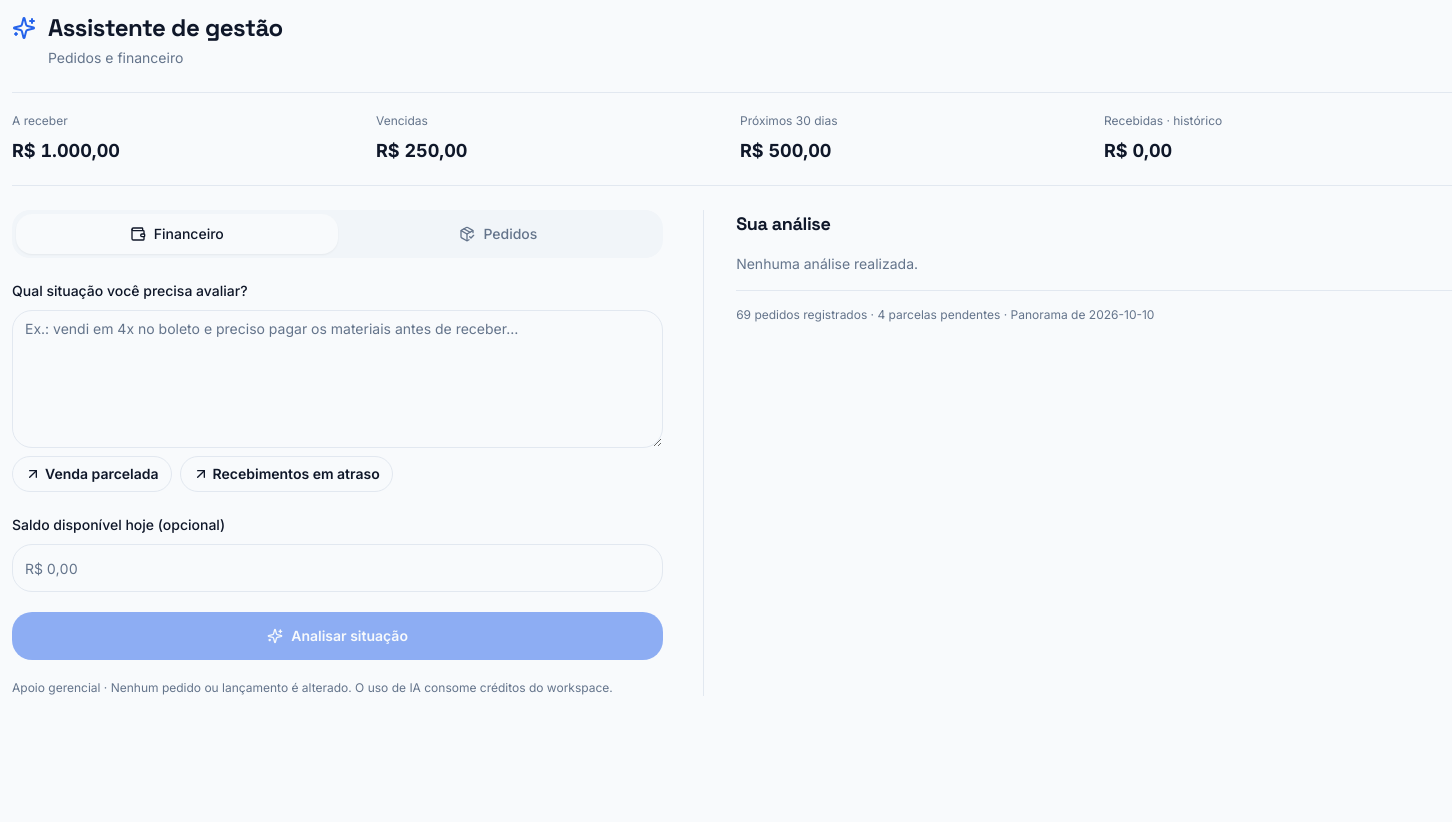
Scenario: Assistente de pedidos e financeiro › mostra a razão de bloqueio e não repete requisições
Check: the element named "Panorama de parcelas provisionadas" is shown, box [12, 92, 1451, 186]
Click the button "Venda parcelada" at point(92, 474), box [12, 456, 172, 492]
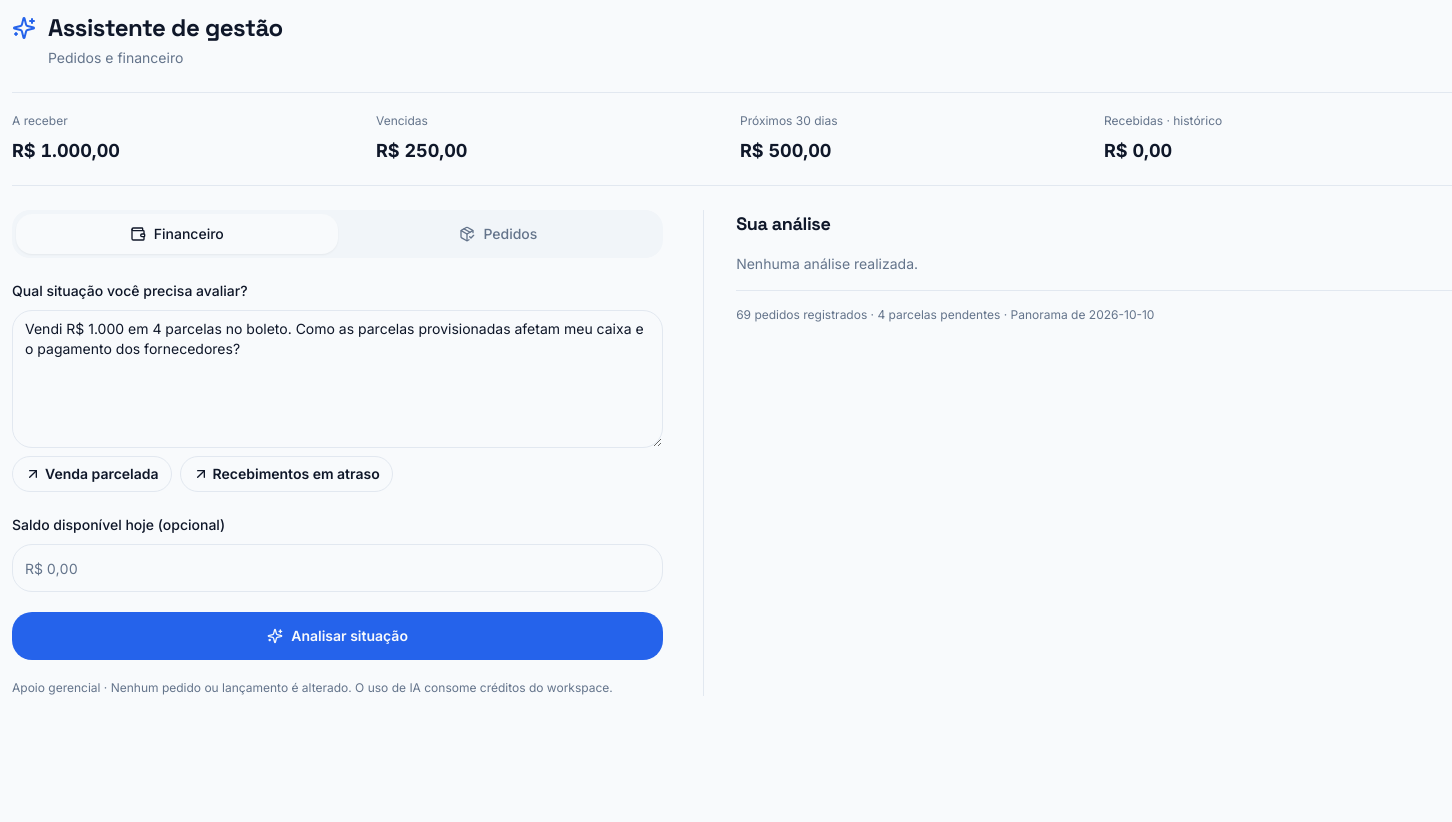
Click the button "Analisar situação" at point(338, 636), box [12, 612, 663, 660]
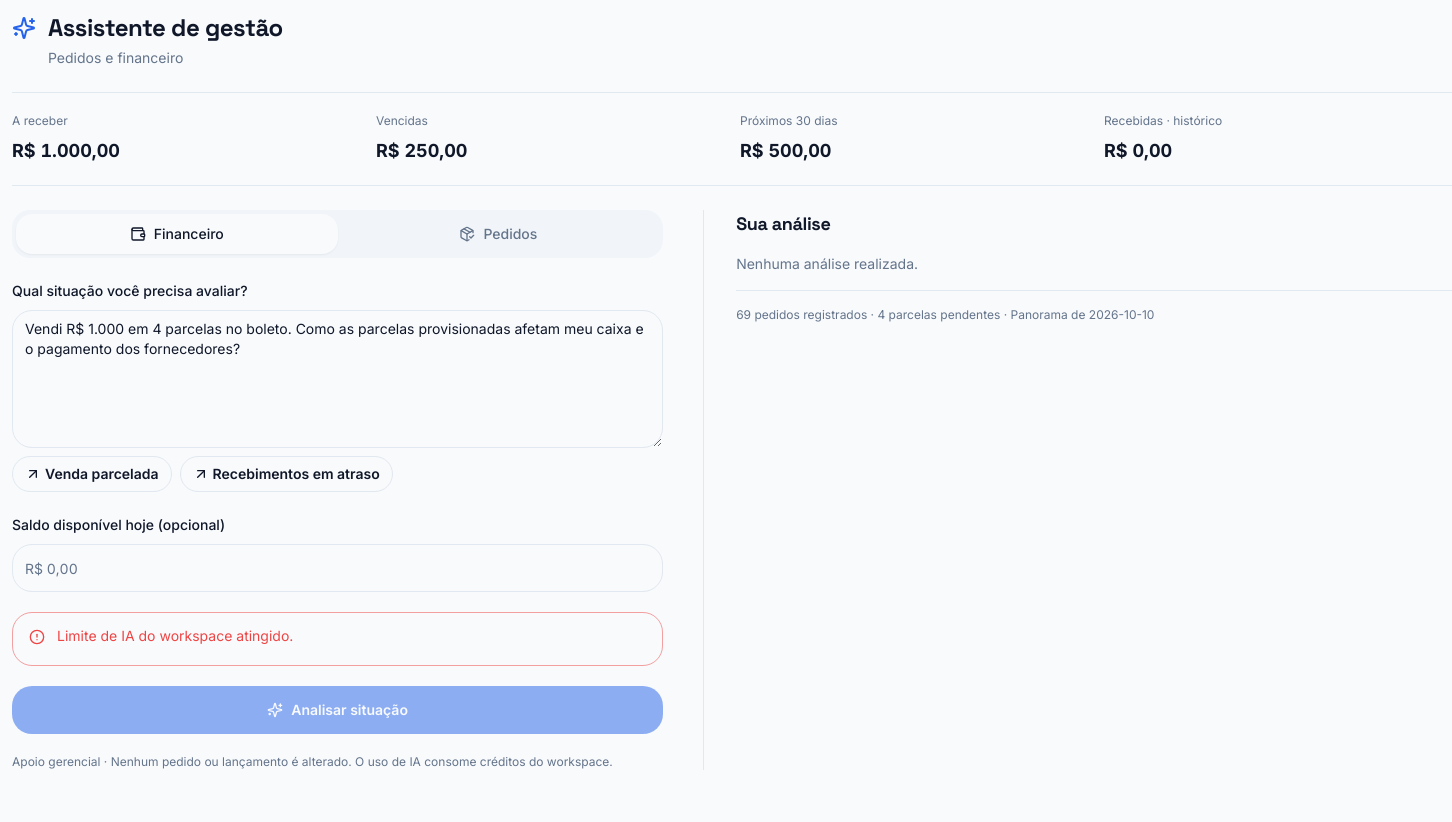
Check: the text box labelled "Qual situação você precisa avaliar?" is not empty, box [12, 310, 663, 448]
Check: the text "Limite de IA do workspace atingido." is shown, box [57, 627, 293, 644]
Check: the button "Analisar situação" is disabled, box [12, 686, 663, 734]
